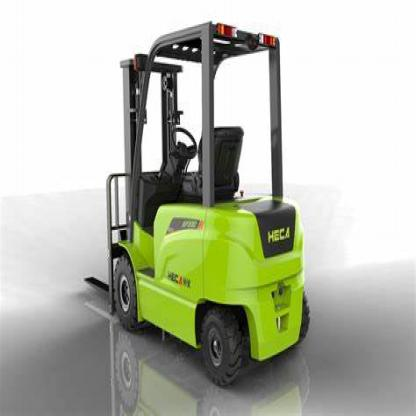forklift: (80, 18, 312, 389)
